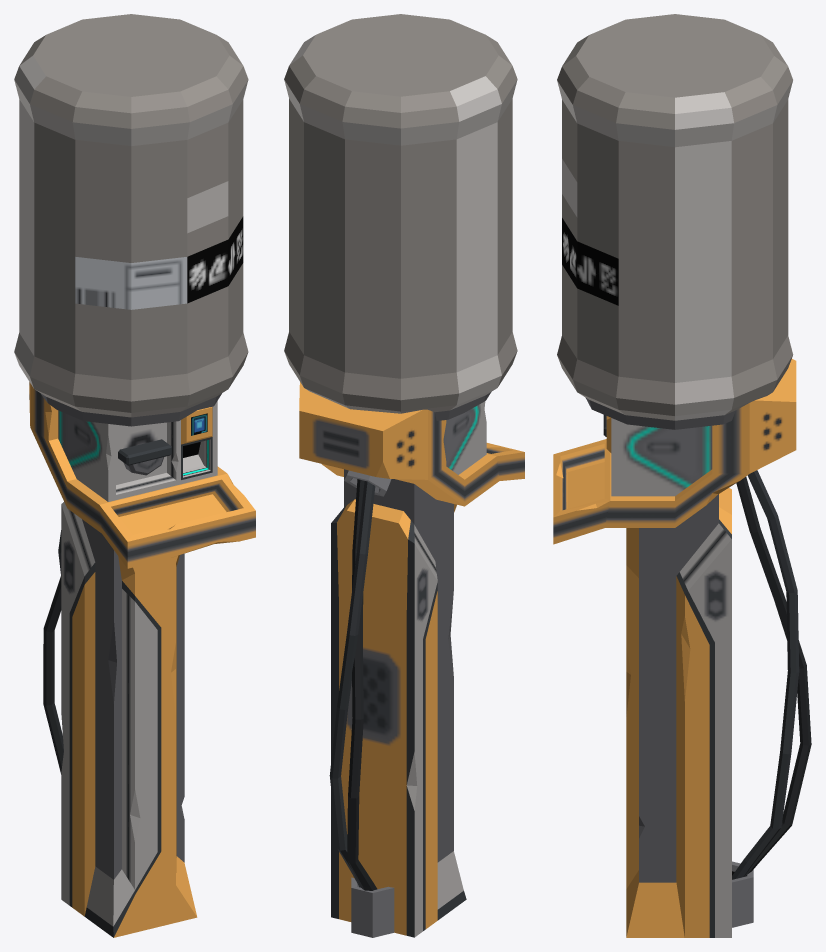
File: SM_Prop_Pill_Dispenser_01.fbx
The picture shows the model from 3 angles, left to right: view 1: azimuth 30°, elevation 25°; view 2: azimuth 150°, elevation 25°; view 3: azimuth 270°, elevation 25°; orthographic projection.
Parts seen in each view (by area): view 1: SM_Prop_Pill_Dispenser_01; view 2: SM_Prop_Pill_Dispenser_01; view 3: SM_Prop_Pill_Dispenser_01.
Boxes of the visible parts, x1=… form: SM_Prop_Pill_Dispenser_01: x1=14, y1=14, x2=255, y2=937; SM_Prop_Pill_Dispenser_01: x1=284, y1=14, x2=524, y2=937; SM_Prop_Pill_Dispenser_01: x1=553, y1=14, x2=811, y2=937.
Bounding box in the file's own units: 47.72 × 192 × 52.15.
